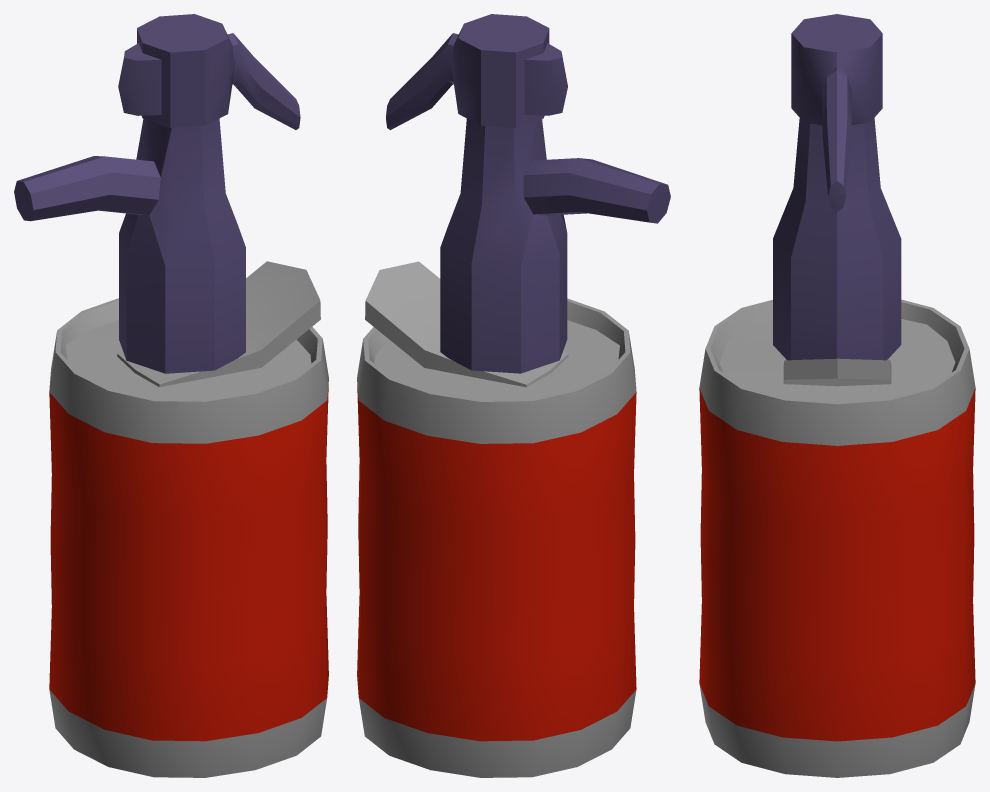
The model's file is PUCHA.fbx.
3 views of the same model, side by side, from view 1: azimuth 30°, elevation 25°; view 2: azimuth 150°, elevation 25°; view 3: azimuth 270°, elevation 25° (orthographic).
Parts seen in each view (by area): view 1: Pucha, Syfon; view 2: Pucha, Syfon; view 3: Pucha, Syfon.
Boxes of the visible parts, left/top/right/bottom form: Pucha: left=49, top=261, right=328, bottom=777; Syfon: left=14, top=14, right=300, bottom=373; Pucha: left=357, top=261, right=636, bottom=777; Syfon: left=386, top=14, right=670, bottom=373; Pucha: left=699, top=299, right=975, bottom=777; Syfon: left=773, top=14, right=901, bottom=360.
Size of the model in its own units: 43.19 by 99.77 by 36.43.
